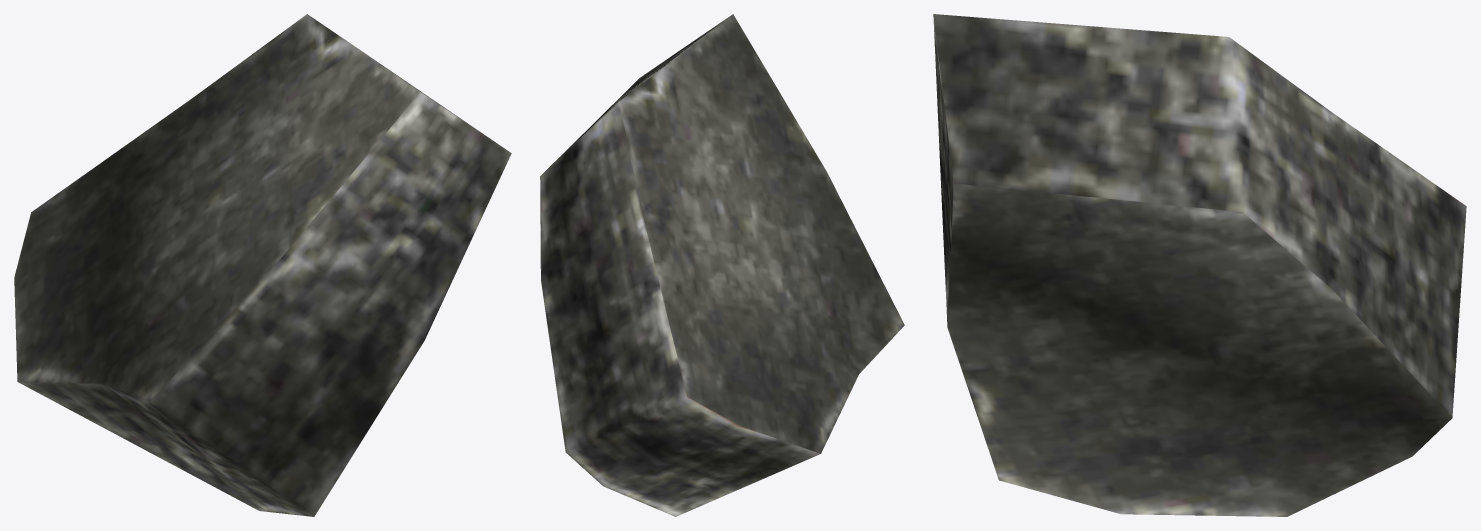
File: Stones_15.fbx
3 renders of one model, left to right at view 1: azimuth 30°, elevation 25°; view 2: azimuth 150°, elevation 25°; view 3: azimuth 270°, elevation 25°, orthographic. The views are drawn at different scales.
Visible parts, largest first — view 1: Stones_15; view 2: Stones_15; view 3: Stones_15.
Boxes of the visible parts, x1=… form: Stones_15: x1=14, y1=14, x2=511, y2=516; Stones_15: x1=540, y1=14, x2=904, y2=516; Stones_15: x1=933, y1=14, x2=1466, y2=516.
Size of the model in its own units: 69.01 by 85.5 by 75.12.
